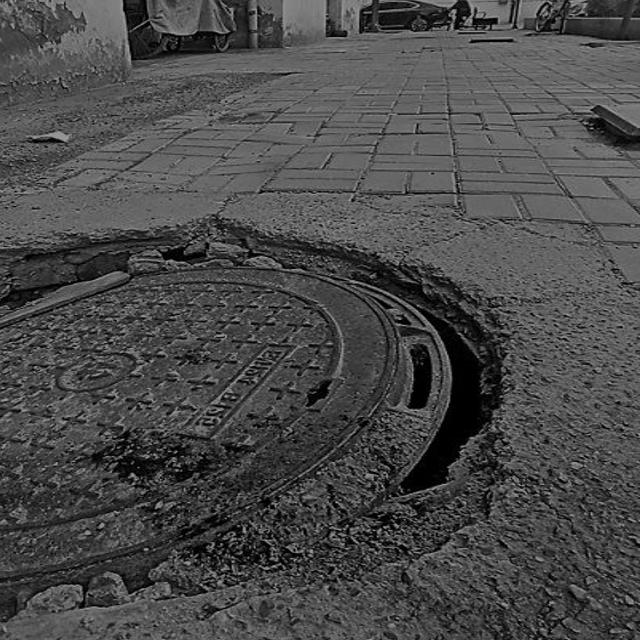circle: (0, 192, 546, 640)
